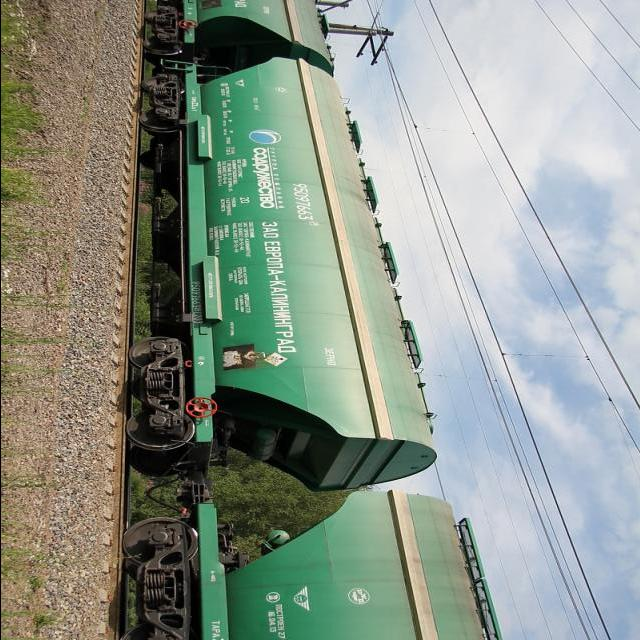wagon: (289, 182, 317, 222), (186, 280, 204, 310)
